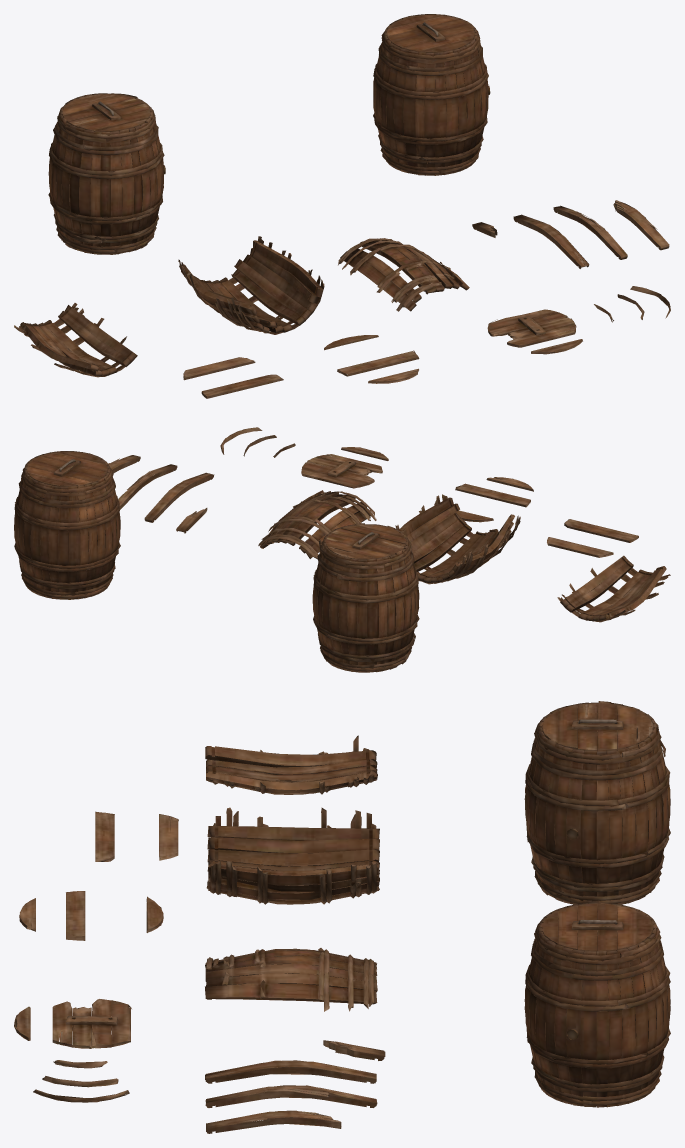
The model's file is ph_wooden_barrels_01.glb.
3 views of the same model, one above another, from view 1: azimuth 30°, elevation 25°; view 2: azimuth 150°, elevation 25°; view 3: azimuth 270°, elevation 25° (orthographic). The views are drawn at different scales.
Parts seen in each view (by area): view 1: wooden_barrels_01_barrel01; view 2: wooden_barrels_01_barrel01; view 3: wooden_barrels_01_barrel01.
Boxes of the visible parts, bbox=[...] form: wooden_barrels_01_barrel01: bbox=[14, 14, 670, 398]; wooden_barrels_01_barrel01: bbox=[14, 427, 670, 672]; wooden_barrels_01_barrel01: bbox=[14, 701, 670, 1133].
Size of the model in its own units: 4.44 by 0.9544 by 3.35.
Materials: 3 (3 with a texture image).
